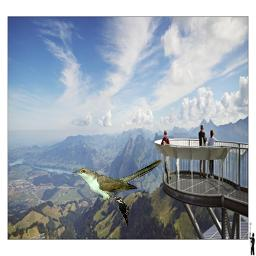Cuckoo: (72, 159, 162, 200)
Woodpecker: (115, 196, 130, 228)
